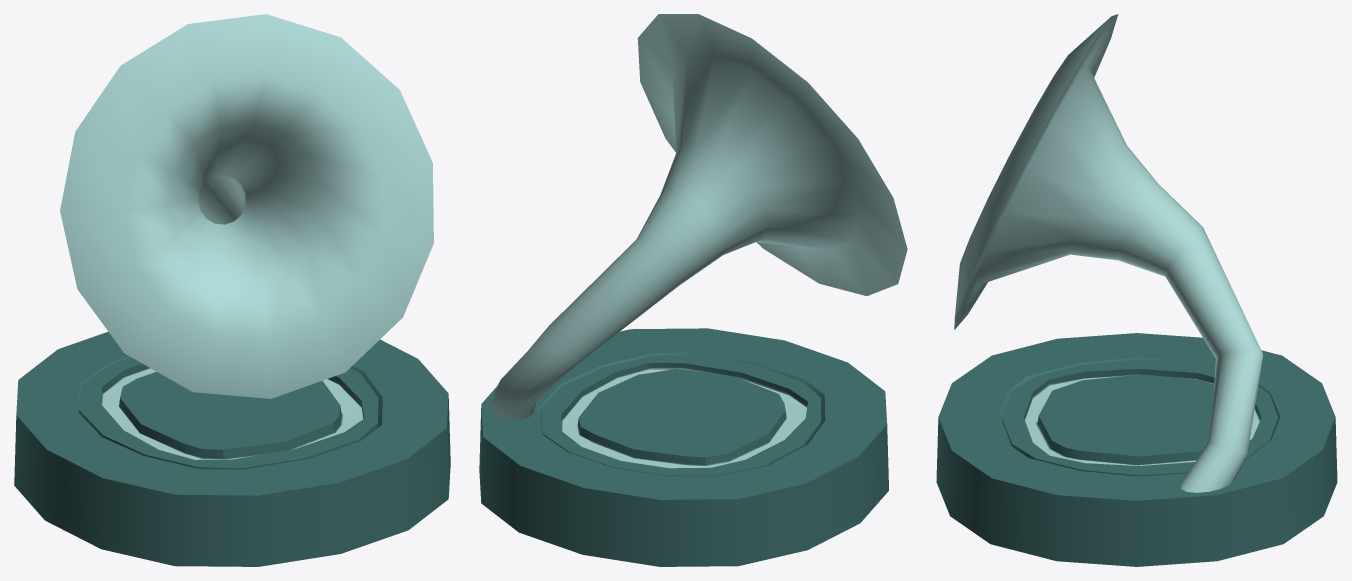
Rendered from Air.fbx.
3 renders of one model, left to right at view 1: azimuth 30°, elevation 25°; view 2: azimuth 150°, elevation 25°; view 3: azimuth 270°, elevation 25°, orthographic. The views are drawn at different scales.
Parts seen in each view (by area): view 1: pCylinder1, polySurface1, polySurface2; view 2: pCylinder1, polySurface1, polySurface2; view 3: polySurface1, pCylinder1, polySurface2.
Boxes of the visible parts, x1,y1,x2,y2 form: pCylinder1: (60,14,433,398); polySurface1: (14,331,450,566); polySurface2: (78,357,378,469); pCylinder1: (492,14,907,419); polySurface1: (479,328,888,566); polySurface2: (539,355,821,476); polySurface1: (936,333,1337,566); pCylinder1: (954,14,1263,492); polySurface2: (1002,359,1278,476).
Bounding box in the file's own units: 8.99 × 10.67 × 8.75.
1 material, 1 textured.
